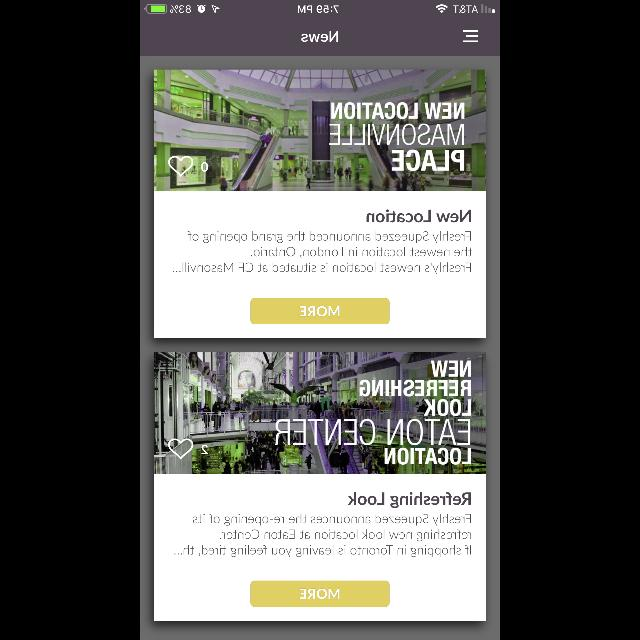icon: (168, 156, 194, 178), (168, 438, 194, 459), (462, 31, 478, 43)
image: (154, 70, 486, 192), (154, 352, 486, 473)
text: (275, 361, 471, 465), (173, 232, 472, 274), (174, 514, 472, 556), (329, 102, 465, 172), (348, 492, 470, 508), (366, 210, 470, 222), (300, 32, 338, 42), (202, 444, 208, 454), (202, 162, 208, 172)
textbutton: (250, 298, 390, 324), (250, 581, 390, 607)
uppertaskbar: (140, 0, 500, 14)
